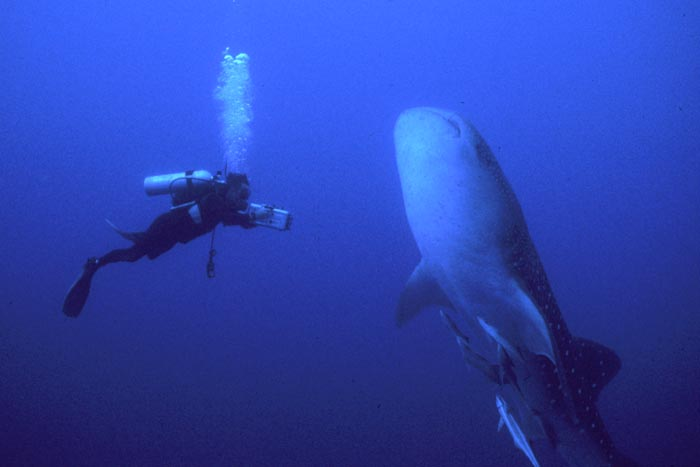Rhincodon_typusw: (380, 97, 644, 464)
